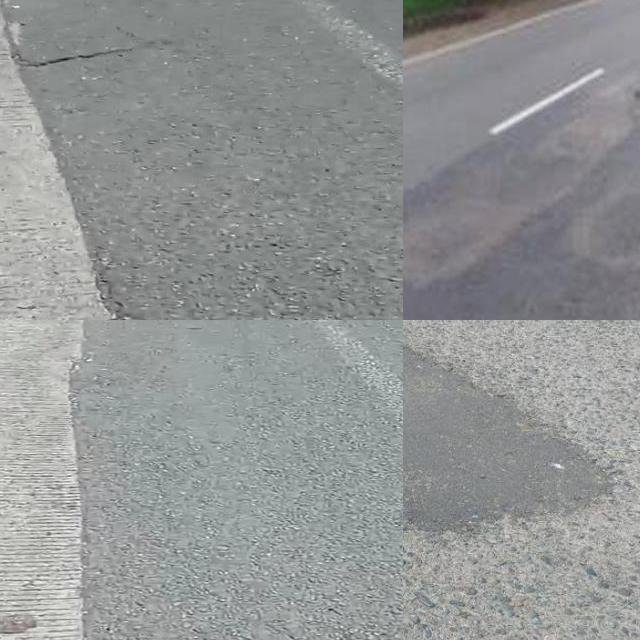Sambungan: (403, 69, 640, 320), (403, 340, 614, 539), (0, 320, 88, 640)
